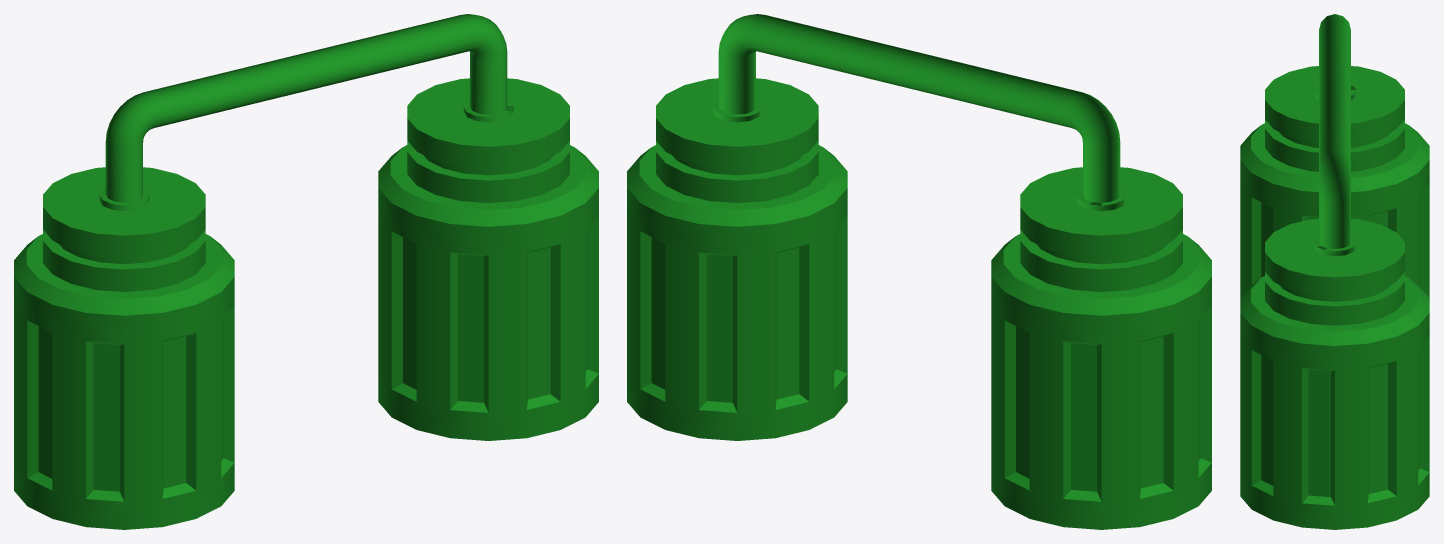
File: Machinerie_grande.FBX
3 views of the same model, side by side, from view 1: azimuth 30°, elevation 25°; view 2: azimuth 150°, elevation 25°; view 3: azimuth 270°, elevation 25° (orthographic). The views are drawn at different scales.
Visible parts, largest first — view 1: Cylindre; view 2: Cylindre; view 3: Cylindre.
Boxes of the visible parts, x1=… form: Cylindre: x1=14, y1=14, x2=598, y2=529; Cylindre: x1=627, y1=14, x2=1211, y2=529; Cylindre: x1=1240, y1=14, x2=1429, y2=529.
Size of the model in its own units: 753 by 494 by 258.
